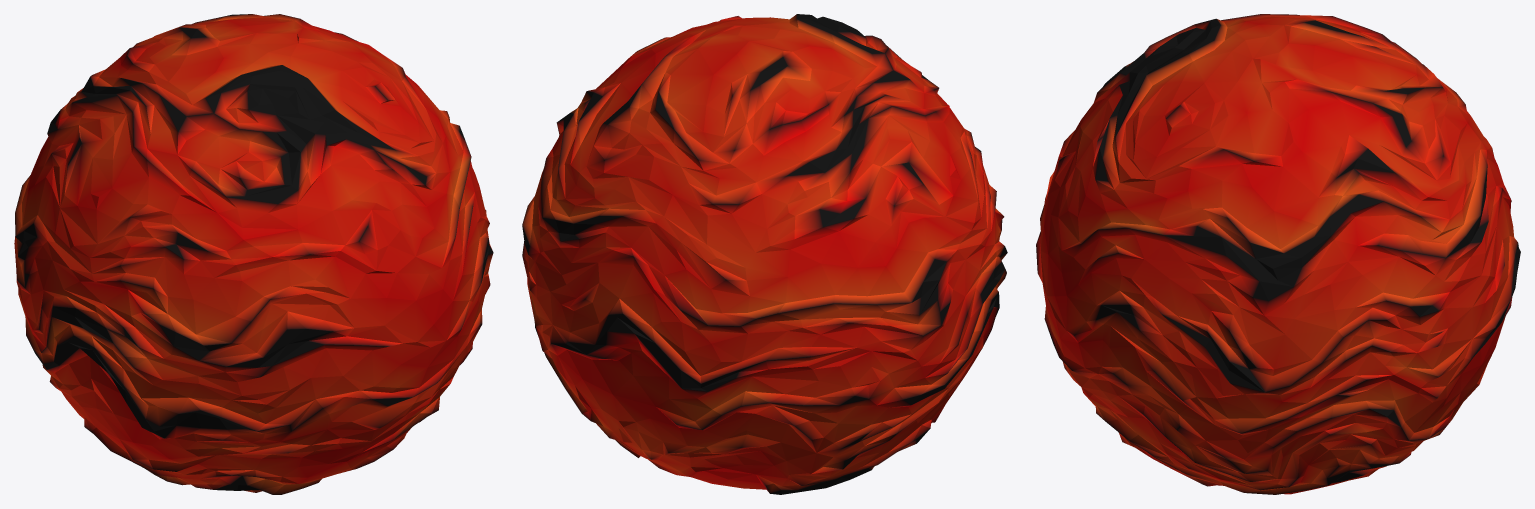
Rendered from volcanic_planet_9.fbx.
3 renders of one model, left to right at view 1: azimuth 30°, elevation 25°; view 2: azimuth 150°, elevation 25°; view 3: azimuth 270°, elevation 25°, orthographic.
Visible parts, largest first — view 1: filecache2; view 2: filecache2; view 3: filecache2.
Part boxes in pixels (left/top/right/bottom): filecache2: left=14, top=14, right=493, bottom=494; filecache2: left=522, top=14, right=1007, bottom=494; filecache2: left=1036, top=14, right=1520, bottom=494.
Size of the model in its own units: 2.04 by 2.02 by 2.05.
